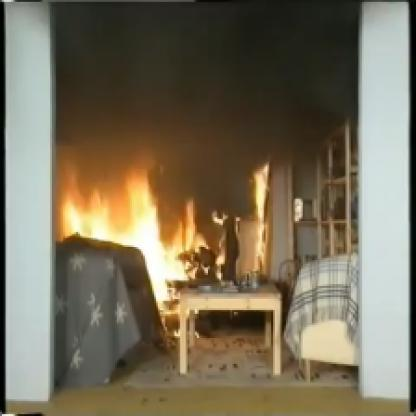fire: (57, 145, 208, 314), (182, 141, 307, 305)
